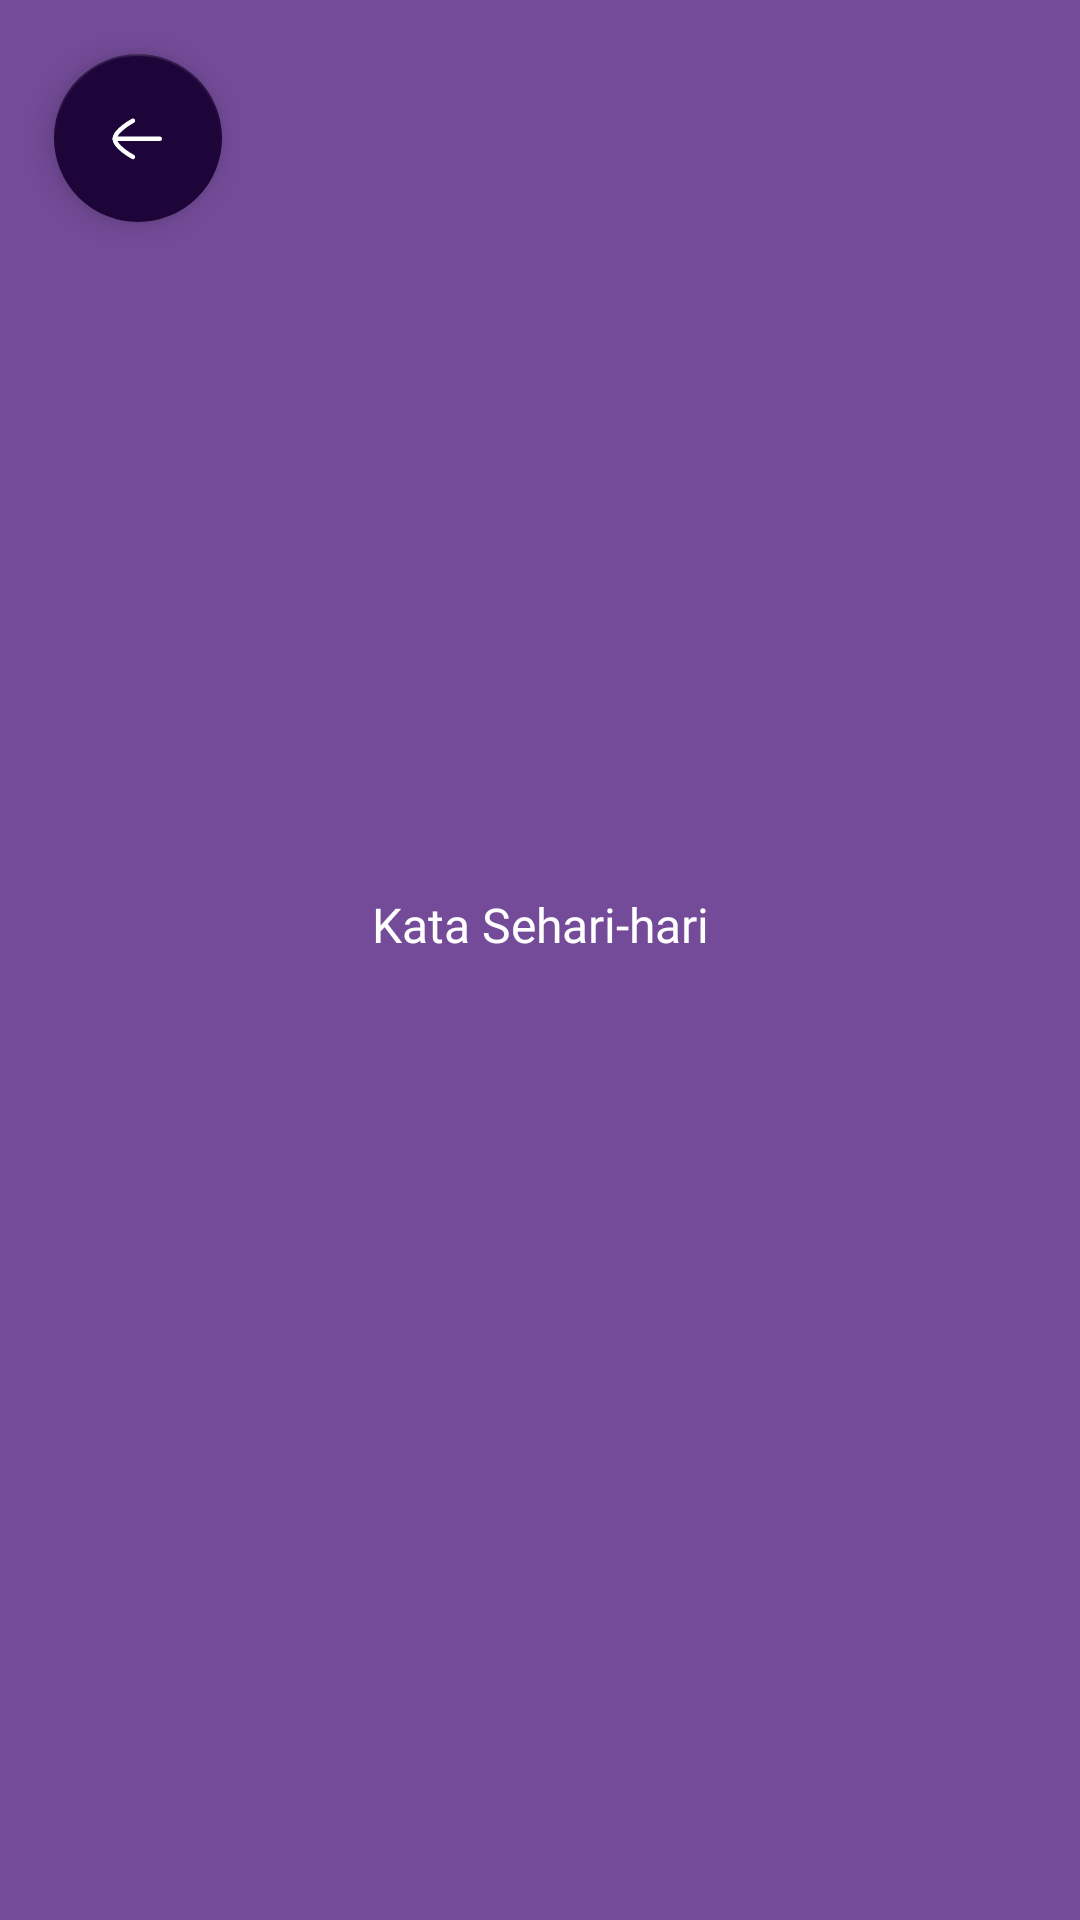

Locate icon controls on the screen. Image size 1080px×1920px, boxes as (x1, y1, x2, y2).
arrow left: (54, 54, 222, 222)
